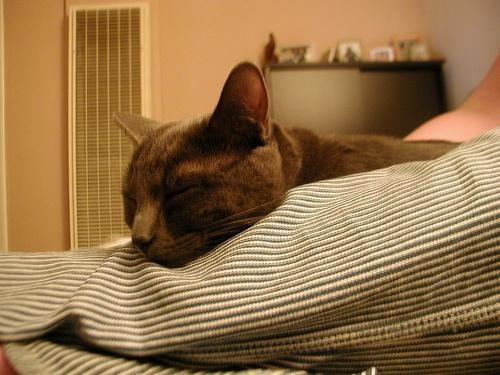cat: (110, 61, 461, 269)
